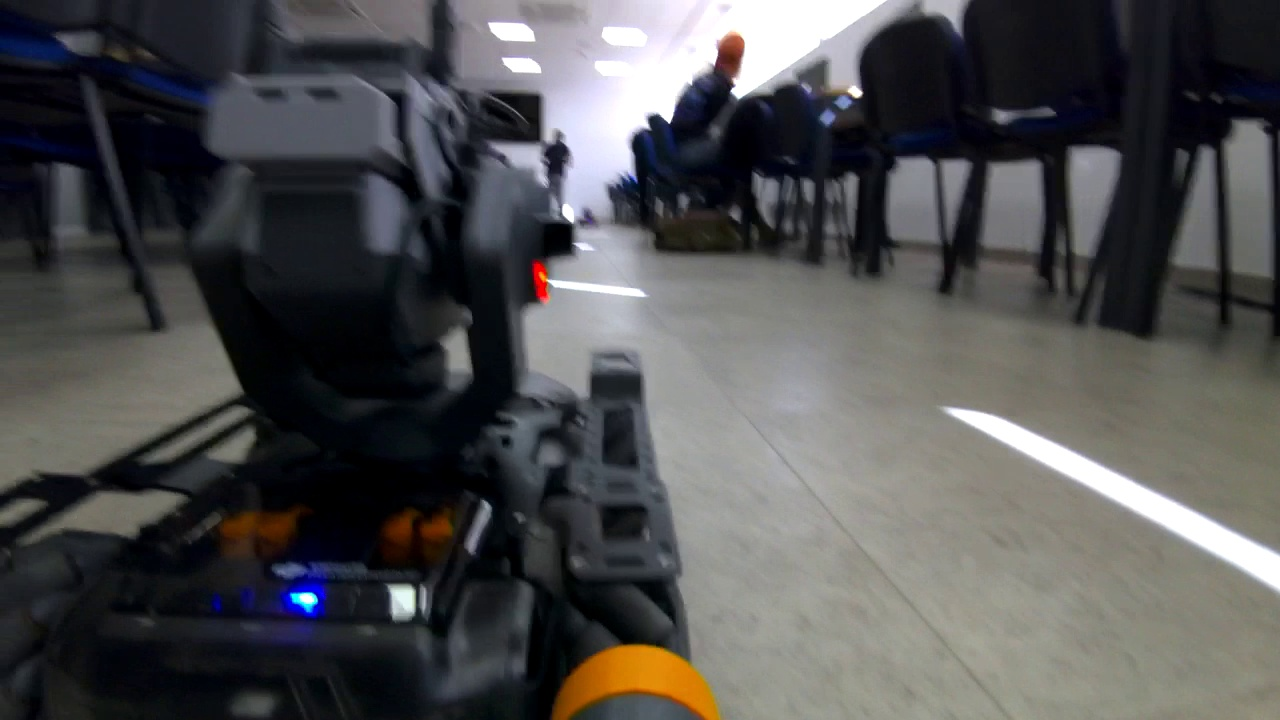robot: (1, 43, 714, 720)
